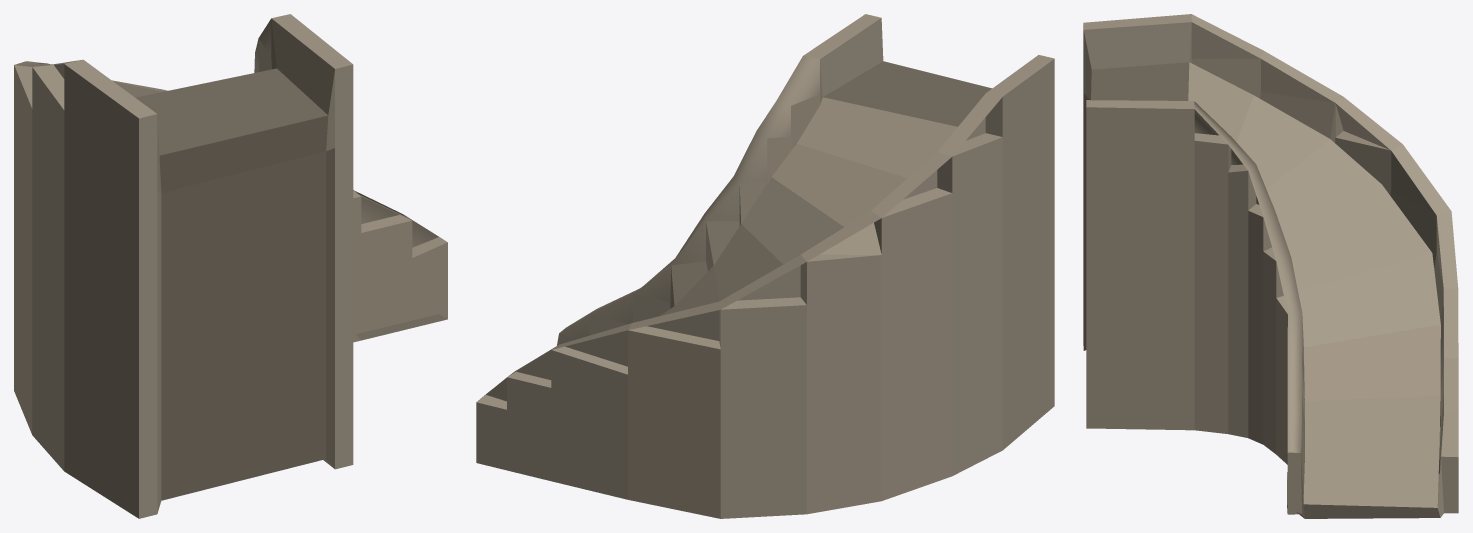
The model's file is staircase_collider.fbx.
3 views of the same model, side by side, from view 1: azimuth 30°, elevation 25°; view 2: azimuth 150°, elevation 25°; view 3: azimuth 270°, elevation 25° (orthographic). The views are drawn at different scales.
Parts seen in each view (by area): view 1: stair_collider; view 2: stair_collider; view 3: stair_collider.
Boxes of the visible parts, bbox=[...] form: stair_collider: bbox=[14, 14, 447, 518]; stair_collider: bbox=[476, 14, 1054, 518]; stair_collider: bbox=[1083, 14, 1458, 518].
Size of the model in its own units: 3.31 by 2.86 by 2.96.
